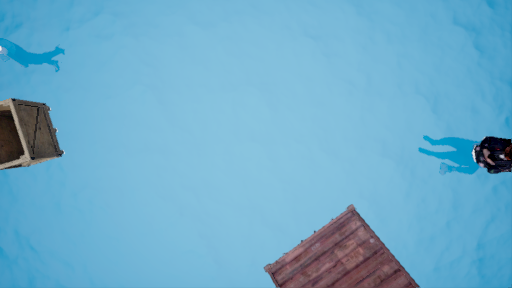person: (427, 123, 512, 177)
